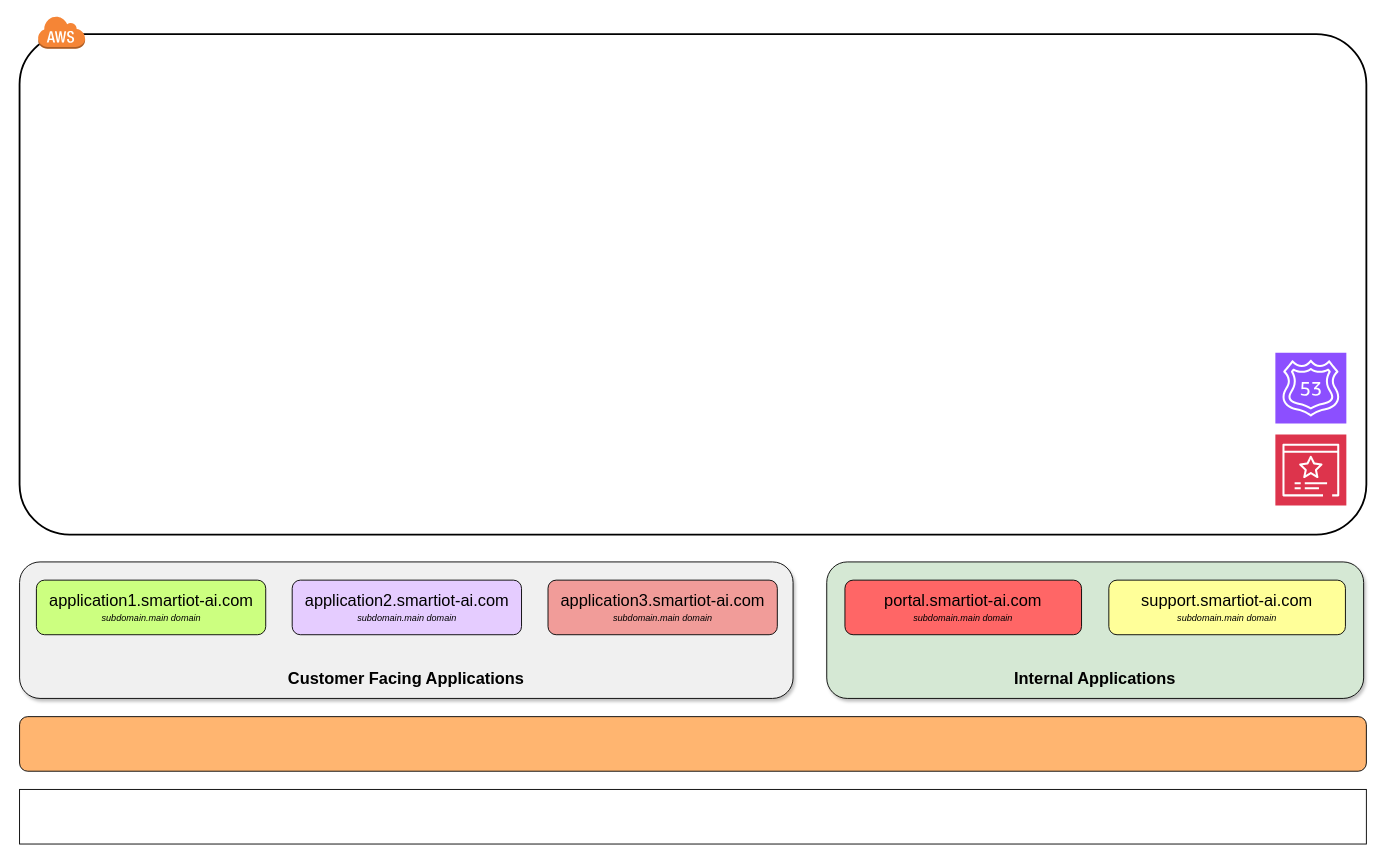
Image size: 1385x860. Some labels were removed from this diagram. Here are the shapes that lost their labels. From the top down, the centre of each, then its label:
(x=1310, y=470): smartiot-ai.com *.smartiot-ai.com
(x=692, y=743): api.smartiot-ai.com subdomain.main domain
(x=692, y=816): smartiot-ai.com
